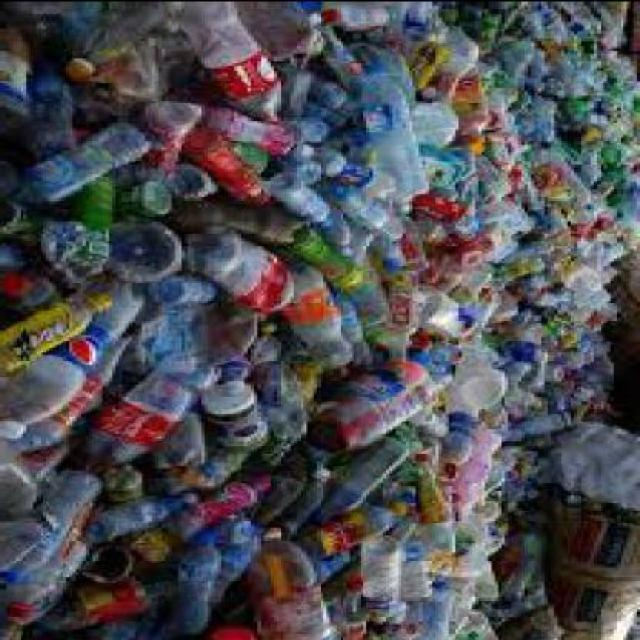PLASTIC: (2, 1, 556, 638), (524, 1, 638, 428), (4, 282, 151, 442), (3, 326, 145, 468), (79, 2, 218, 121), (89, 358, 225, 467), (185, 3, 290, 126), (313, 360, 442, 452), (17, 124, 158, 207), (4, 469, 105, 583), (161, 393, 274, 492), (246, 528, 345, 638), (185, 224, 303, 314), (359, 72, 436, 200), (3, 290, 115, 376), (280, 262, 360, 373), (70, 2, 178, 84), (40, 571, 182, 632), (3, 176, 126, 244), (151, 312, 264, 381), (3, 540, 92, 626), (3, 427, 86, 519), (185, 128, 277, 210), (554, 425, 638, 512), (10, 62, 82, 158), (330, 439, 416, 519), (528, 2, 604, 88), (175, 479, 274, 541), (181, 200, 314, 245), (458, 200, 544, 269), (293, 227, 376, 295), (314, 499, 409, 558), (255, 363, 313, 455), (238, 2, 324, 64), (145, 100, 207, 186), (204, 383, 274, 457), (39, 222, 116, 289), (112, 222, 192, 284), (548, 264, 617, 334), (94, 584, 183, 638), (106, 492, 208, 539), (182, 531, 228, 635), (452, 433, 508, 516), (505, 334, 561, 415), (311, 12, 366, 92), (208, 110, 303, 156), (363, 534, 409, 628), (340, 254, 398, 328), (373, 289, 425, 371), (416, 455, 458, 556), (224, 518, 270, 608), (416, 455, 458, 553), (3, 27, 40, 133), (357, 42, 418, 106), (3, 2, 99, 42), (343, 187, 412, 242), (155, 415, 214, 479), (498, 532, 548, 606), (423, 287, 485, 344), (291, 468, 340, 538), (436, 30, 484, 101), (419, 188, 478, 245), (278, 178, 339, 233), (383, 215, 435, 277), (412, 89, 465, 148), (504, 304, 542, 385), (512, 91, 570, 144), (545, 148, 597, 207), (538, 54, 597, 104), (3, 274, 69, 318), (360, 2, 409, 60), (267, 454, 307, 524), (326, 576, 371, 638), (319, 2, 399, 35), (89, 539, 145, 586), (310, 79, 359, 132), (446, 408, 482, 479), (301, 541, 359, 585), (408, 529, 442, 603), (155, 274, 228, 308), (548, 2, 610, 42), (452, 368, 511, 410), (574, 261, 620, 314), (578, 240, 636, 282), (571, 375, 623, 420), (129, 529, 182, 573), (512, 168, 554, 223), (494, 38, 544, 84), (508, 247, 570, 284), (122, 182, 175, 222), (175, 166, 228, 206), (426, 248, 472, 294), (603, 78, 639, 136), (280, 64, 320, 116), (426, 147, 474, 190), (512, 412, 578, 443), (465, 104, 524, 138), (442, 580, 478, 635), (426, 581, 460, 639), (478, 155, 512, 211), (448, 232, 498, 270), (251, 322, 294, 366), (597, 2, 634, 52), (482, 2, 524, 46), (383, 600, 431, 638), (353, 168, 409, 200), (420, 338, 462, 380), (446, 546, 492, 583), (466, 518, 512, 554), (416, 44, 452, 90), (606, 174, 639, 223), (571, 185, 614, 222), (462, 292, 498, 336), (458, 338, 504, 371), (574, 148, 611, 188), (102, 467, 148, 499), (528, 220, 574, 252), (452, 3, 494, 37), (326, 213, 357, 259), (524, 277, 568, 309), (578, 212, 627, 240), (277, 158, 326, 185), (458, 269, 498, 302), (234, 141, 274, 173), (603, 54, 639, 89), (494, 136, 528, 173), (504, 474, 534, 514), (290, 119, 333, 146), (593, 299, 627, 332), (498, 284, 524, 327), (584, 334, 618, 366), (540, 168, 574, 200), (455, 616, 503, 638), (3, 602, 40, 630), (570, 95, 601, 128), (597, 171, 628, 203), (617, 136, 638, 182), (478, 568, 504, 602), (532, 458, 558, 492), (481, 405, 512, 432), (69, 57, 103, 81), (213, 623, 264, 639), (594, 356, 617, 390), (294, 368, 320, 398), (3, 275, 40, 296), (578, 123, 604, 151), (412, 2, 438, 30), (524, 444, 548, 474), (3, 421, 34, 442), (528, 436, 564, 452), (478, 502, 504, 524), (264, 319, 290, 341), (3, 562, 29, 583), (554, 355, 588, 371), (442, 3, 466, 25), (202, 528, 224, 552), (570, 408, 601, 424), (304, 12, 330, 30), (95, 294, 118, 314), (349, 623, 377, 639), (231, 365, 257, 381), (551, 388, 571, 408), (554, 366, 574, 386), (561, 334, 581, 354), (257, 474, 277, 492), (442, 467, 466, 482), (492, 87, 512, 104), (303, 146, 323, 159), (300, 2, 331, 10), (188, 492, 201, 510), (330, 8, 342, 24), (400, 501, 412, 517), (531, 487, 544, 499), (630, 228, 638, 245)
